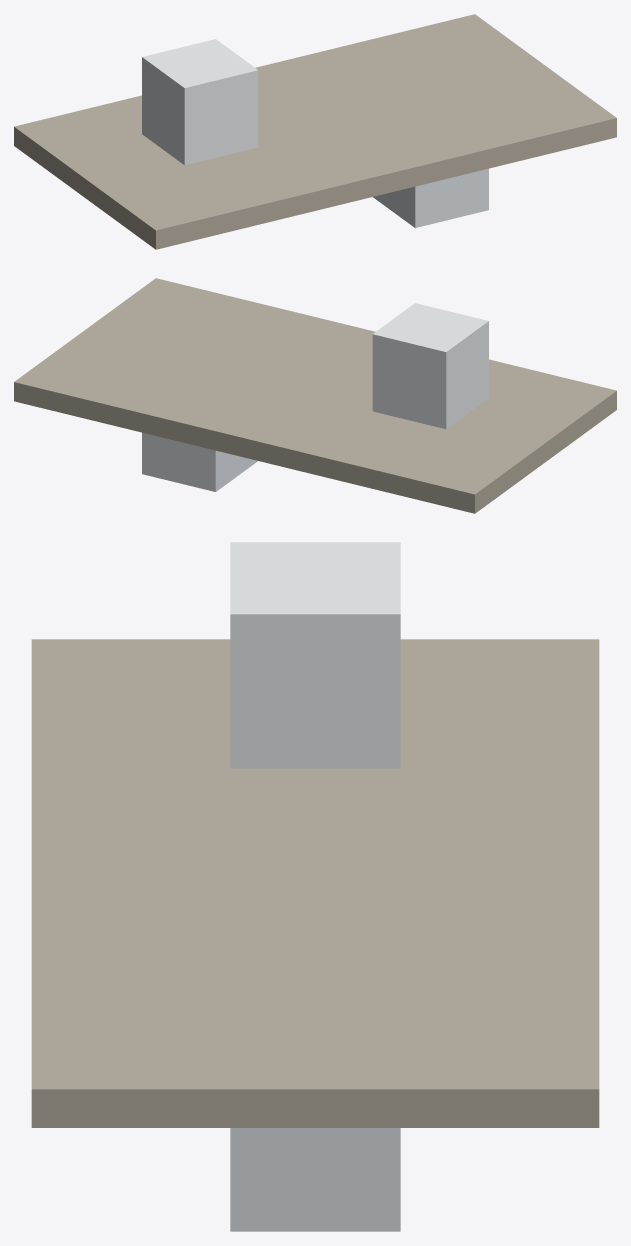
The model's file is SkylightTable.glb.
3 renders of one model, top to bottom at view 1: azimuth 30°, elevation 25°; view 2: azimuth 150°, elevation 25°; view 3: azimuth 270°, elevation 25°, orthographic. The views are drawn at different scales.
Visible parts, largest first — view 1: Table, UpperObject, LowerObject; view 2: Table, UpperObject, LowerObject; view 3: Table, UpperObject, LowerObject.
Boxes of the visible parts, x1,y1,x2,y2 form: Table: (14,14,616,249); UpperObject: (142,39,258,165); LowerObject: (373,168,488,227); Table: (14,278,616,513); UpperObject: (372,303,488,429); LowerObject: (142,432,257,491); Table: (31,639,599,1127); UpperObject: (230,542,400,768); LowerObject: (230,1128,400,1231).
Bounding box in the file's own units: 3 × 1.22 × 1.6.
